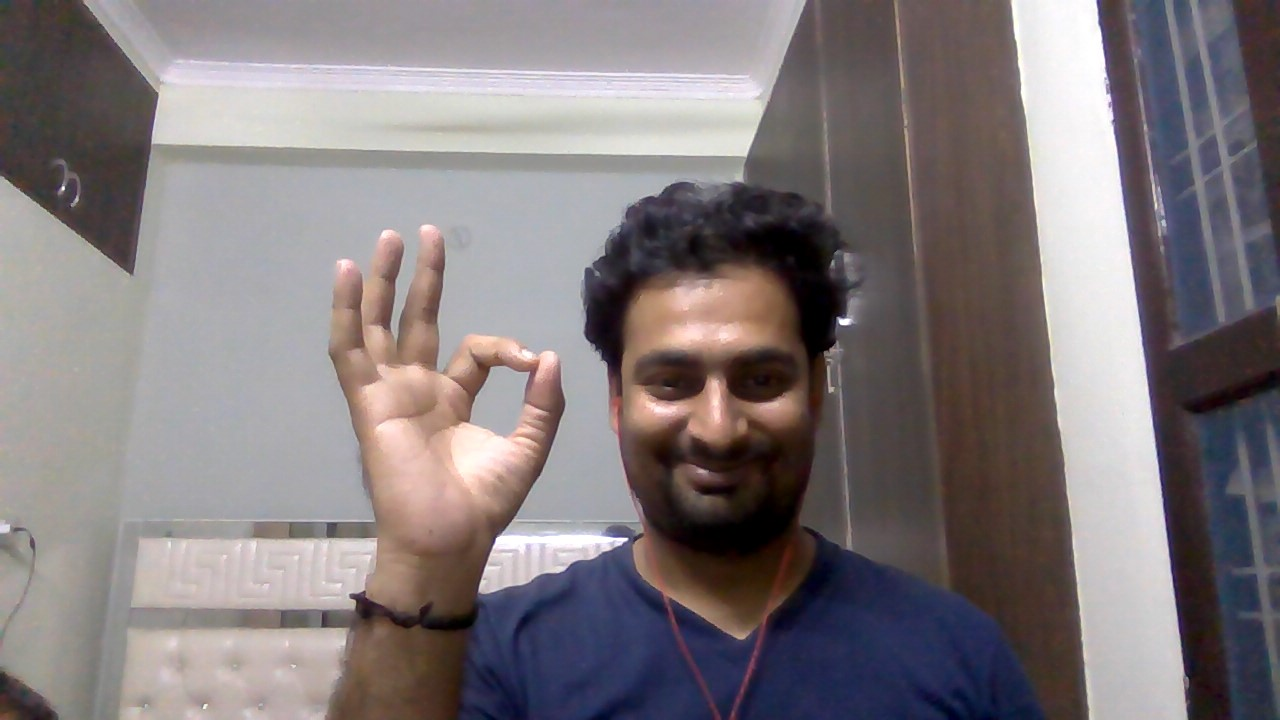Copy: (318, 206, 590, 575)
